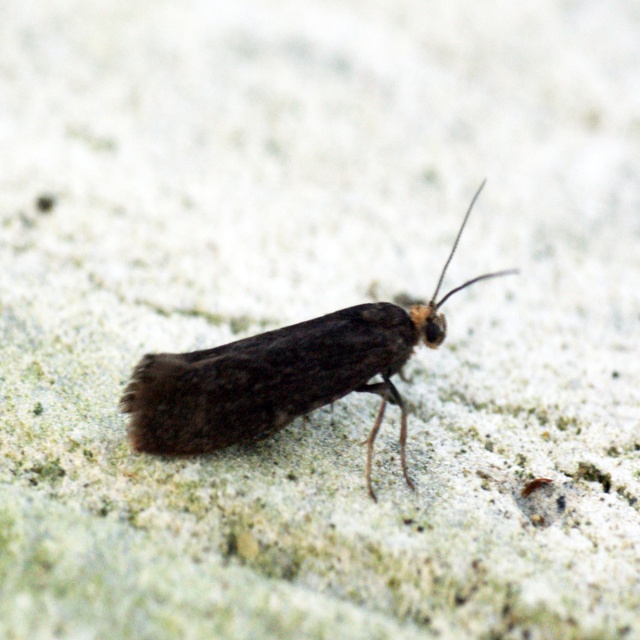Moths and butterflies: (115, 172, 519, 501)
